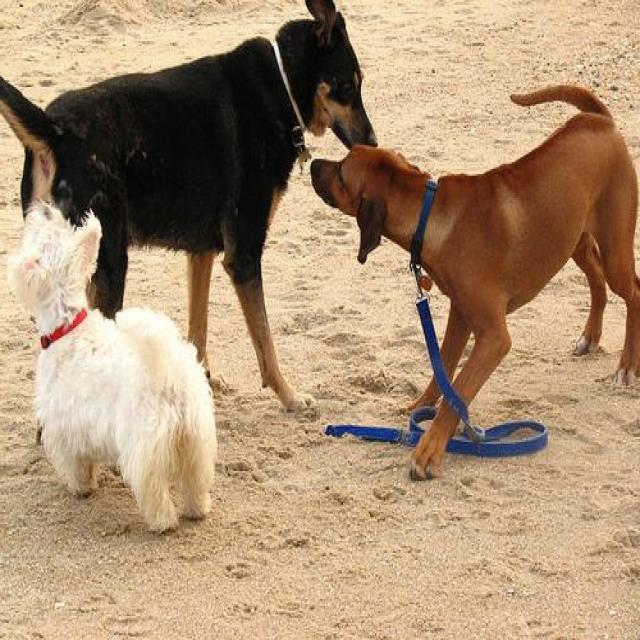rhodesian_ridgeback: (310, 82, 640, 483)
